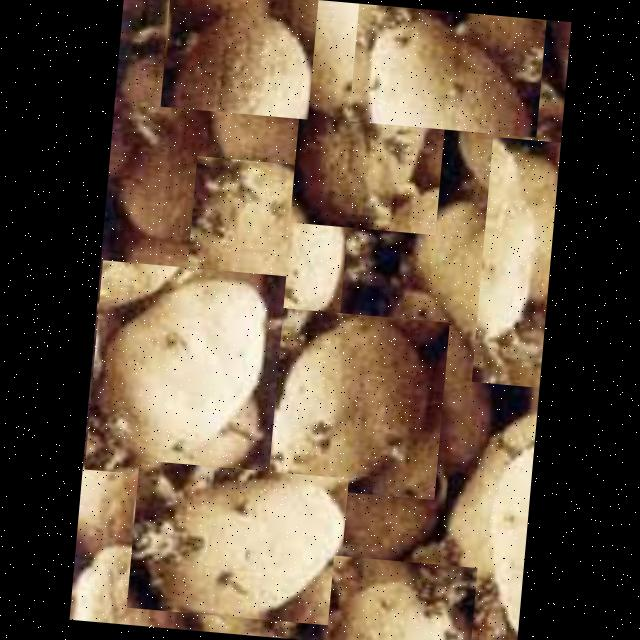Sprouted potato: (84, 259, 286, 484), (289, 0, 454, 234), (126, 458, 348, 624), (264, 306, 450, 498), (184, 154, 352, 322), (348, 2, 546, 136), (472, 136, 560, 387), (160, 0, 318, 118), (326, 554, 477, 640), (473, 432, 535, 634)
